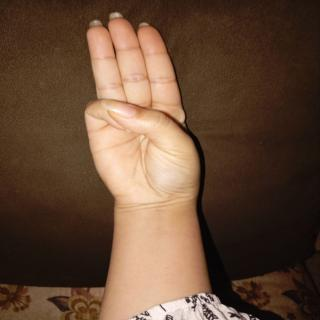THA: (71, 5, 232, 229)
